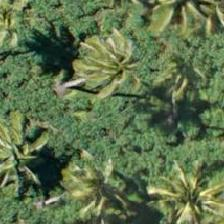coconut_tree: (52, 31, 142, 121), (137, 31, 223, 121), (41, 146, 131, 223), (0, 110, 58, 200), (143, 166, 223, 223)
